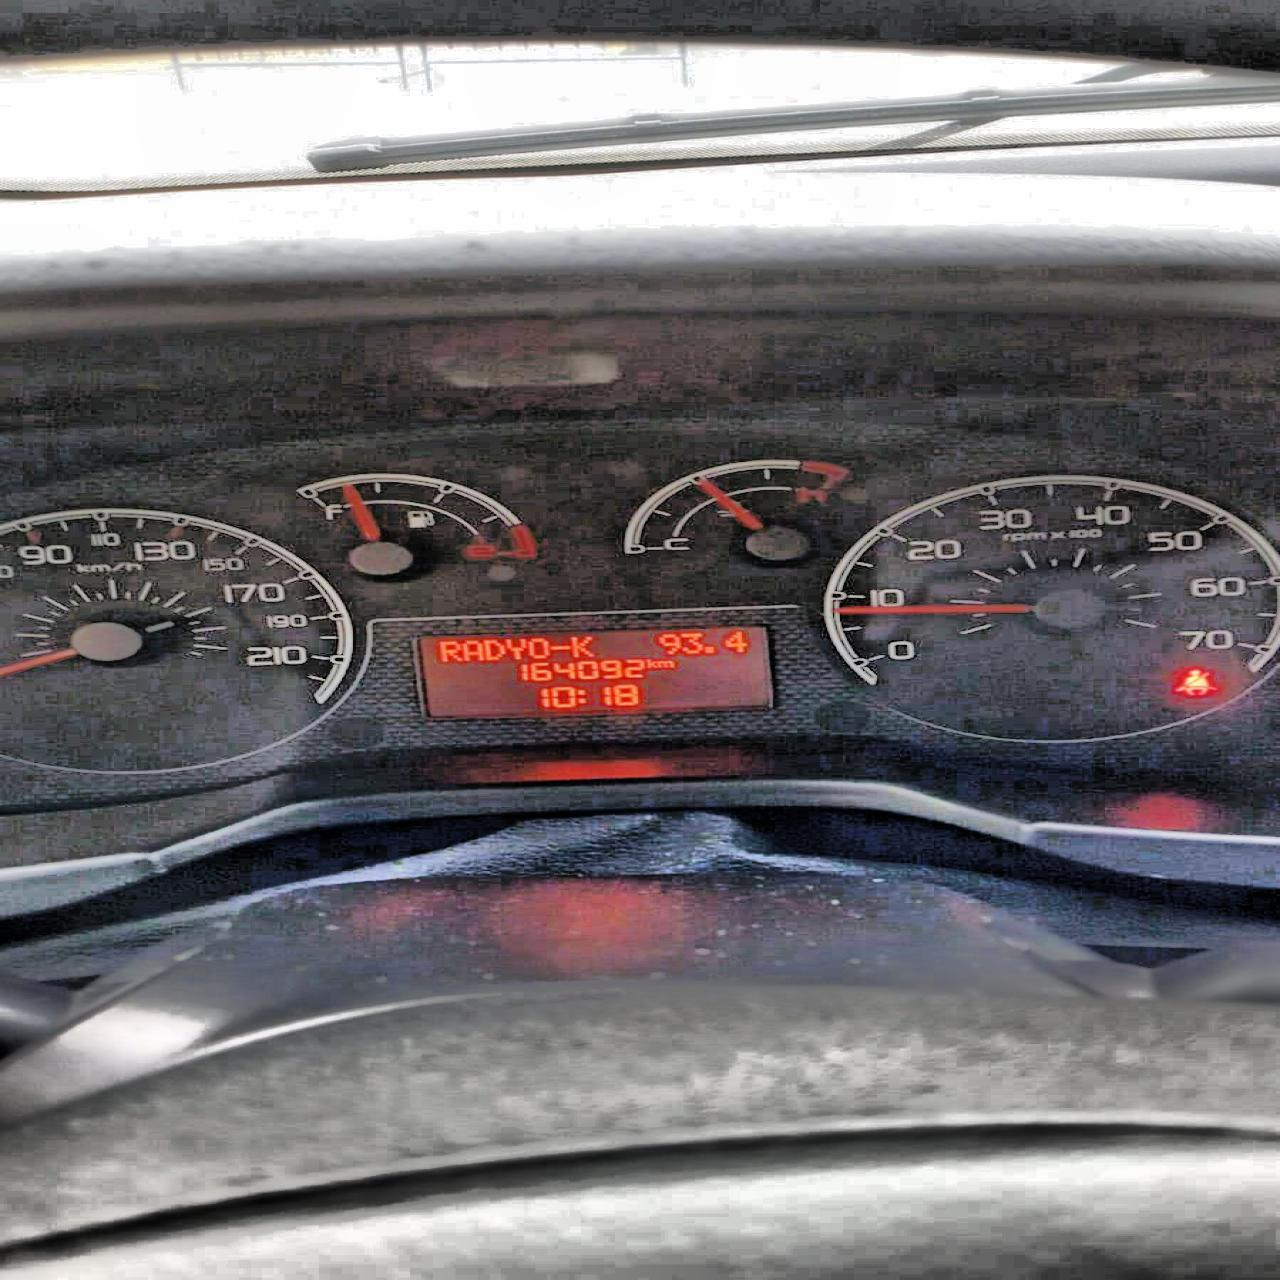-: (702, 645, 716, 654)
0: (550, 686, 576, 707), (576, 660, 599, 679)
1: (538, 687, 550, 708), (602, 685, 611, 706), (518, 662, 527, 680)
2: (622, 659, 644, 678)
3: (680, 632, 703, 654)
4: (722, 629, 747, 653), (551, 661, 574, 680)
6: (530, 661, 551, 681)
8: (612, 683, 638, 706)
9: (655, 633, 679, 655), (599, 659, 621, 678)
X: (571, 635, 594, 658), (525, 636, 550, 658), (438, 640, 462, 661), (462, 639, 483, 660), (483, 639, 503, 660), (504, 638, 524, 659), (576, 688, 587, 703), (655, 660, 675, 667), (550, 644, 570, 651), (645, 659, 655, 668)
odometer: (410, 621, 779, 720)
